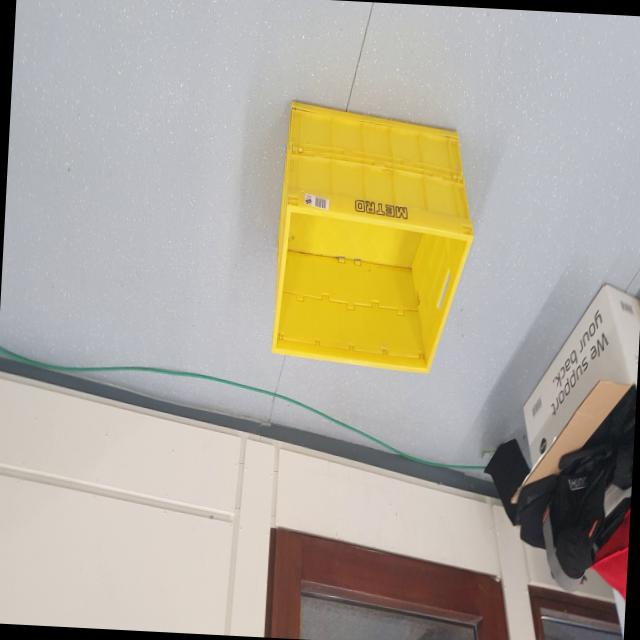box: (262, 84, 486, 382)
